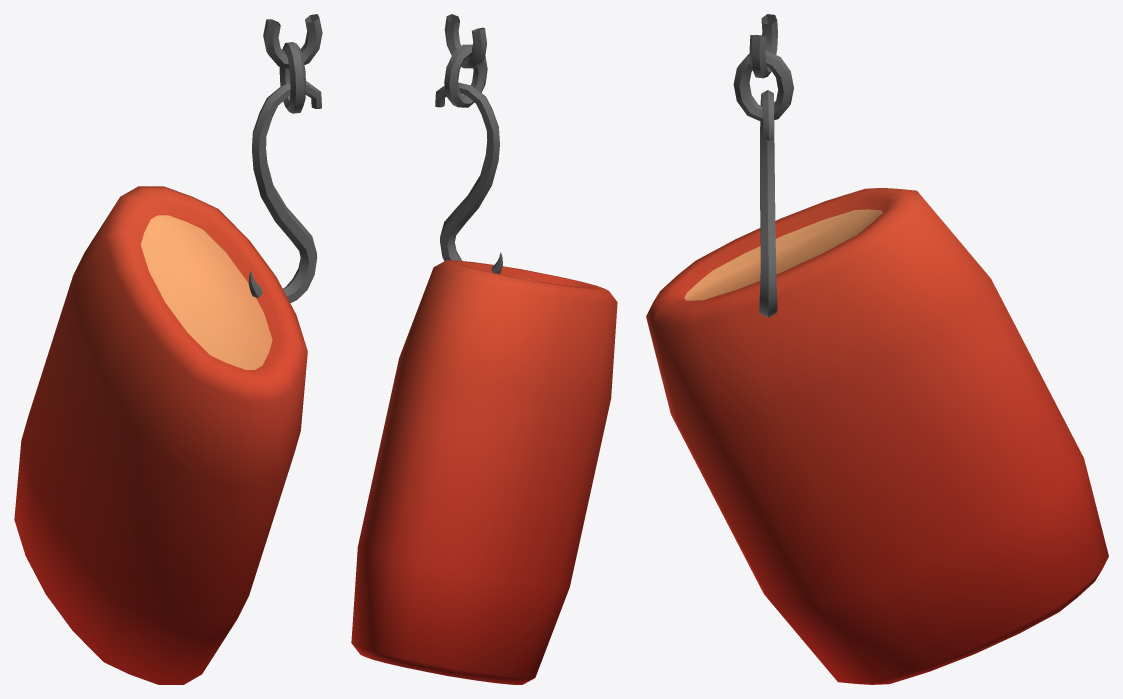
The model's file is Meat_1.fbx.
3 views of the same model, side by side, from view 1: azimuth 30°, elevation 25°; view 2: azimuth 150°, elevation 25°; view 3: azimuth 270°, elevation 25° (orthographic). The views are drawn at different scales.
Visible parts, largest first — view 1: Meat_1; view 2: Meat_1; view 3: Meat_1.
Part boxes in pixels (<box>): Meat_1: <box>14,14,322,684</box>; Meat_1: <box>351,14,617,684</box>; Meat_1: <box>646,14,1108,684</box>.
Size of the model in its own units: 22.76 by 77.83 by 47.33.
